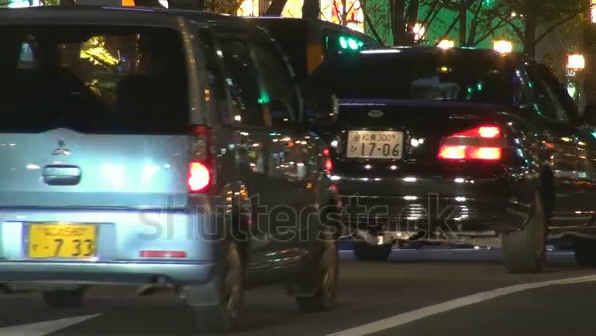licenseplate: (29, 217, 99, 264), (350, 127, 407, 164)
